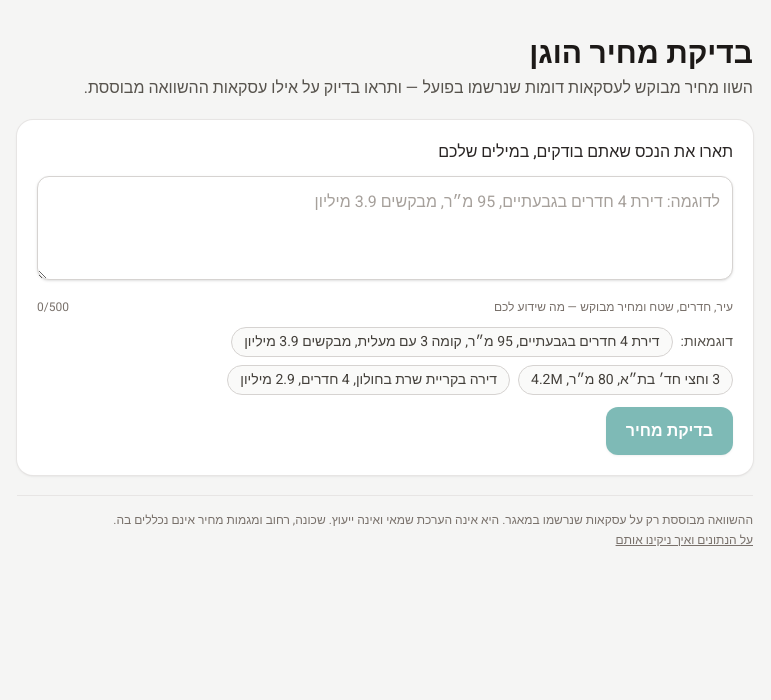
Test case: App › a highlighted number reveals which fact it came from
The image size is (771, 700).
Step 1. Type "דירה בגבעתיים" into the text box labelled "תארו את הנכס שאתם בודקים, במילים שלכם" → (385, 228), box [37,176,733,280]
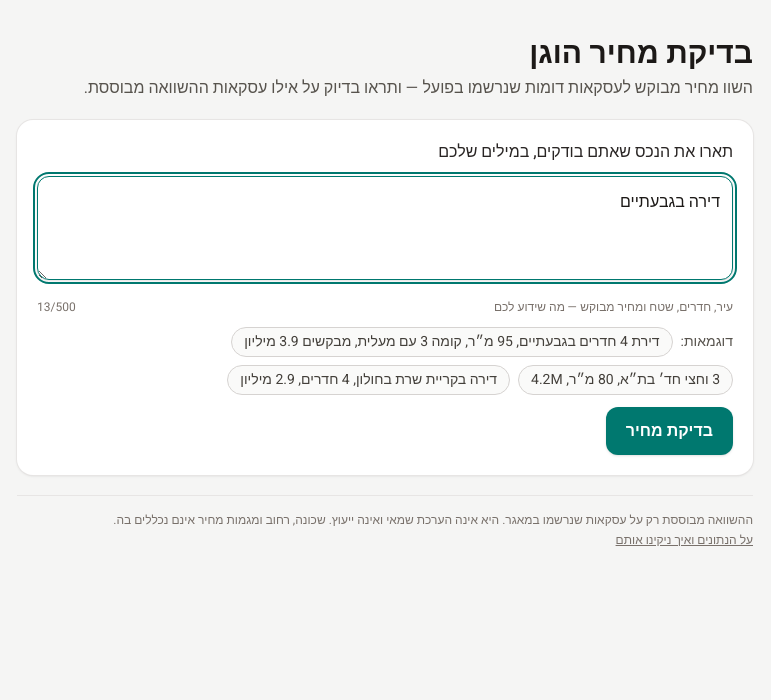
Step 2. Click the button "בדיקת מחיר" → (669, 431), box [606,407,733,455]
(page scrolled)
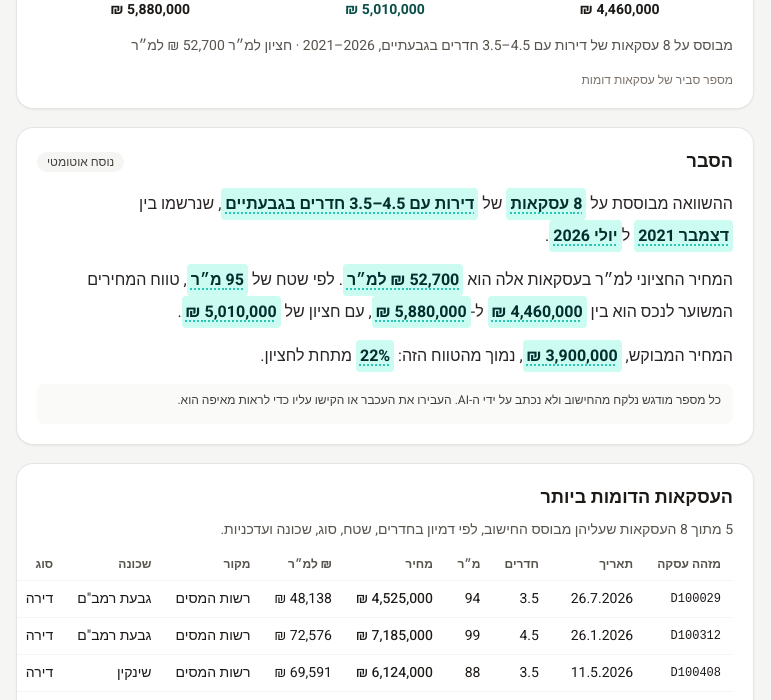
Step 3. Click the button "3,900,000 ₪" → (572, 356), box [522,340,622,372]
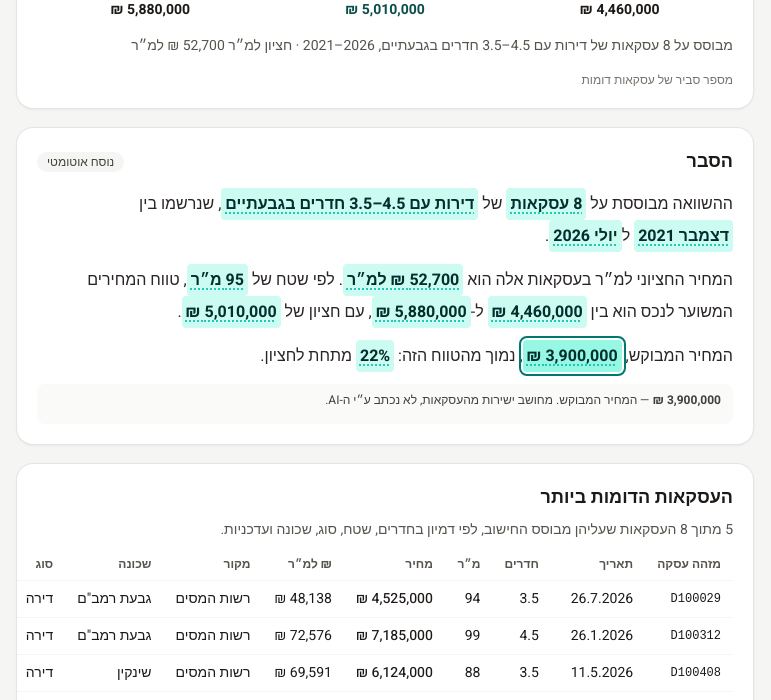
Expected: the button "3,900,000 ₪" is expanded, [522,340,622,372]
